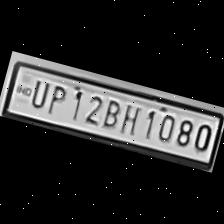0: (152, 108, 178, 144), (189, 118, 215, 154)
1: (63, 86, 87, 122), (136, 105, 160, 140)
2: (80, 90, 107, 126)
8: (172, 114, 196, 148)
B: (98, 95, 124, 131)
H: (116, 100, 144, 136)
P: (42, 80, 70, 118)
U: (26, 74, 52, 110)
